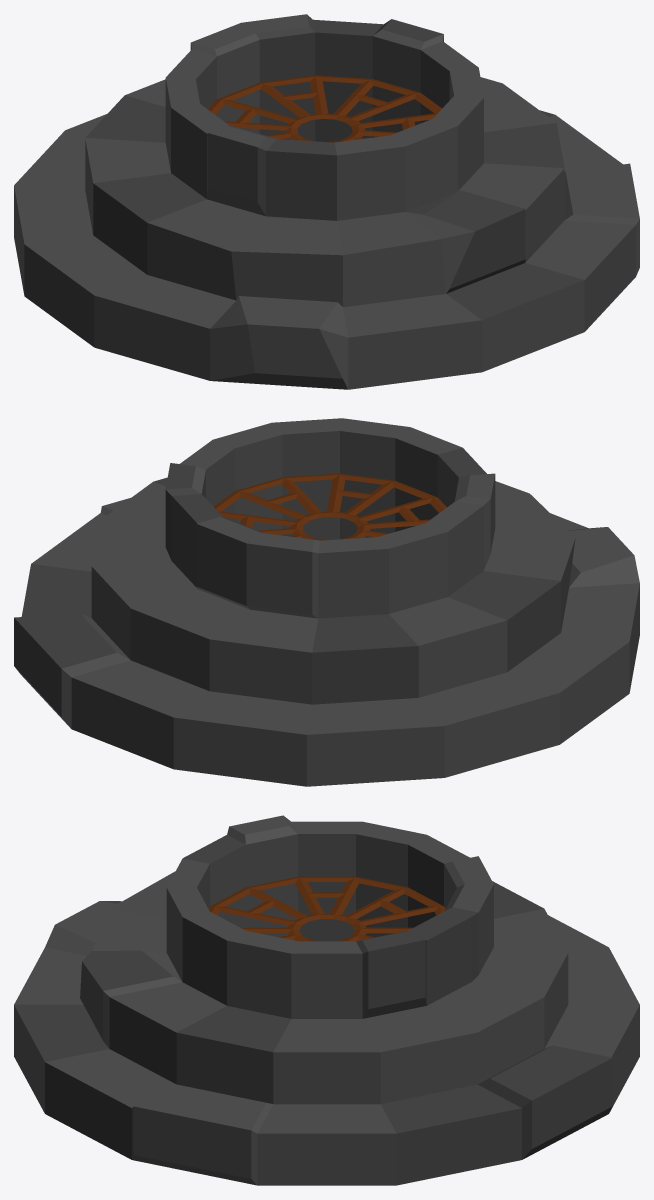
Rendered from Well_Grit.fbx.
The picture shows the model from 3 angles, top to bottom: view 1: azimuth 30°, elevation 25°; view 2: azimuth 150°, elevation 25°; view 3: azimuth 270°, elevation 25°; orthographic projection.
Parts seen in each view (by area): view 1: Well, Well_Grid; view 2: Well, Well_Grid; view 3: Well, Well_Grid.
Boxes of the visible parts, left/top/right/bottom form: Well: left=14, top=14, right=639, bottom=389; Well_Grid: left=208, top=75, right=441, bottom=142; Well: left=14, top=418, right=639, bottom=786; Well_Grid: left=214, top=473, right=446, bottom=540; Well: left=14, top=815, right=639, bottom=1185; Well_Grid: left=208, top=876, right=445, bottom=941.
Bounding box in the file's own units: 2.54 × 0.7936 × 2.59.
